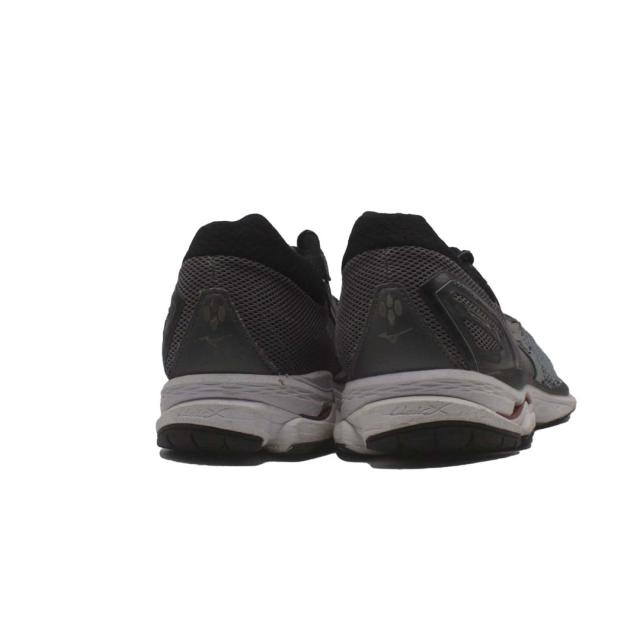heel: (340, 212, 504, 381), (162, 218, 325, 378)
midsole: (333, 373, 574, 454), (155, 376, 343, 457)
